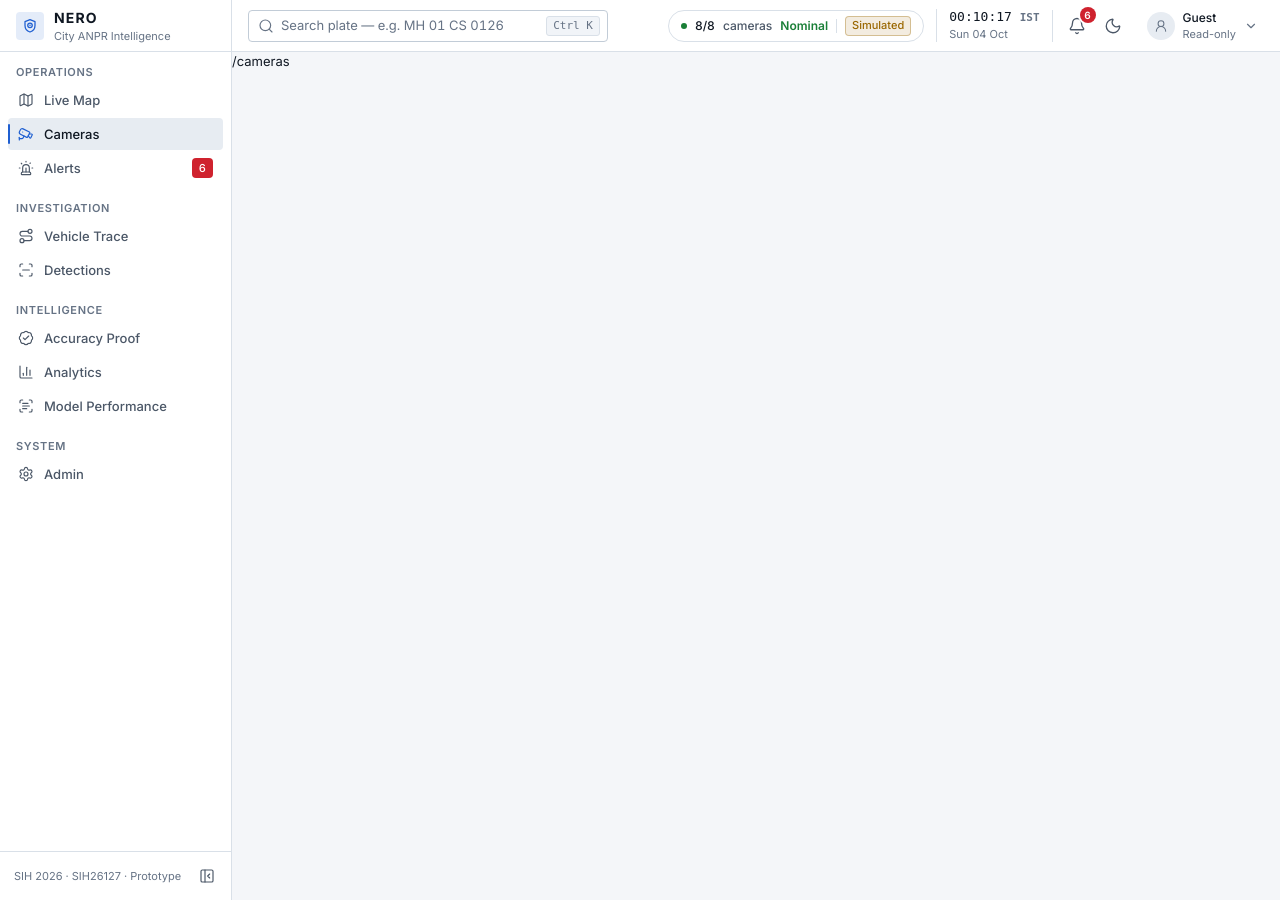
DashboardLayout shell › global plate search navigates to Vehicle Trace with the normalised plate
Step 1. Type "mh 01-cs 0126" into the search field named "Search vehicle plate" → (428, 26), box [248,10,608,42]
Then press Enter
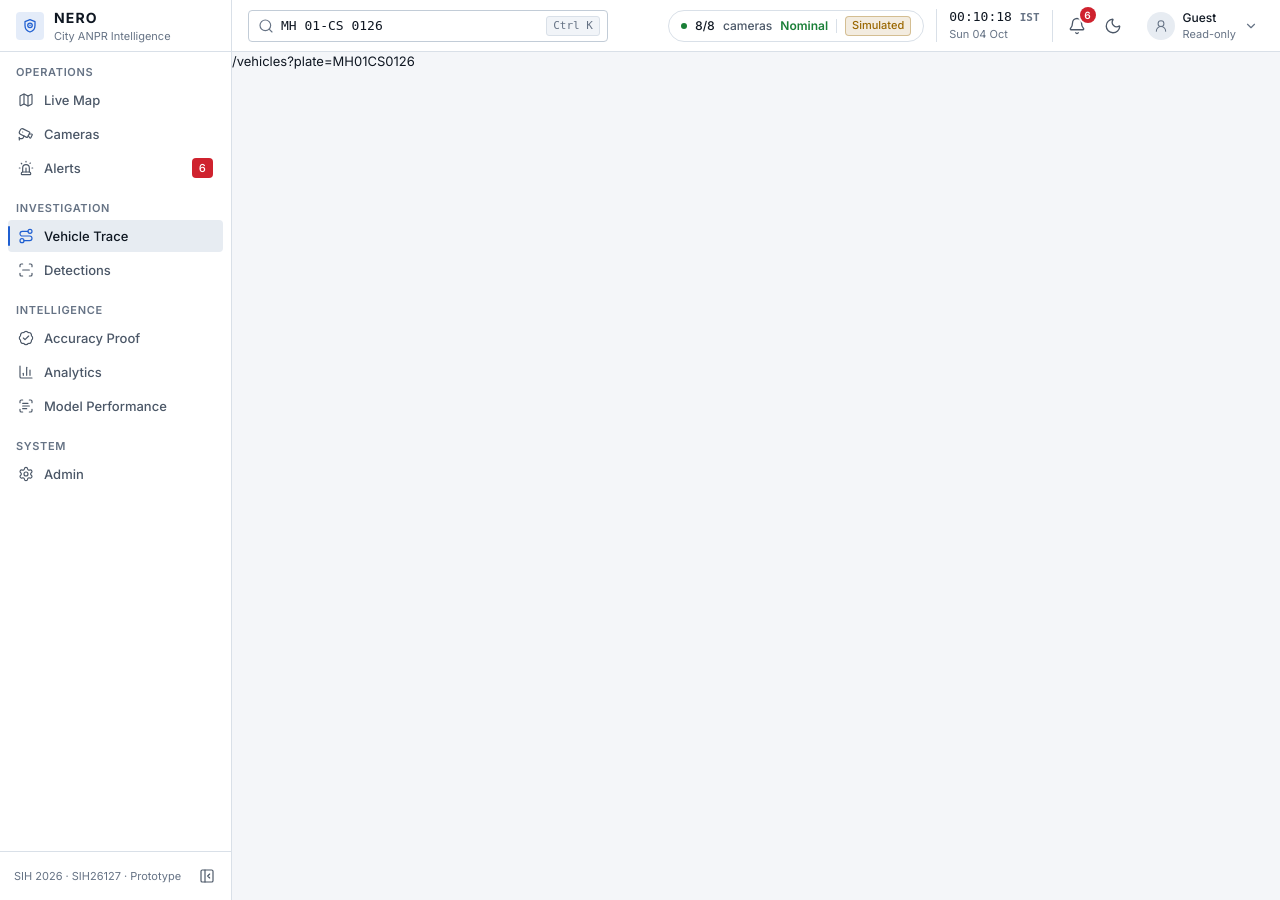
Expected: the text with test id "where" reads "/vehicles?plate=MH01CS0126", [232,53,415,69]
